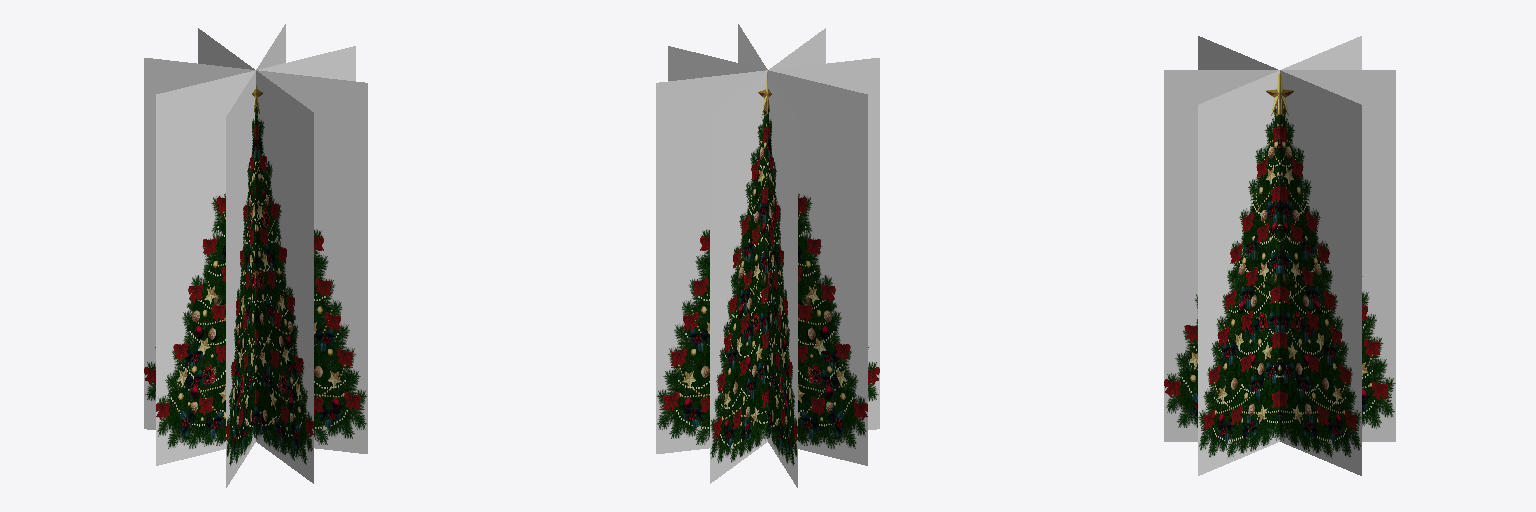
3 views of the same model, side by side, from view 1: azimuth 30°, elevation 25°; view 2: azimuth 150°, elevation 25°; view 3: azimuth 270°, elevation 25° (orthographic).
Parts seen in each view (by area): view 1: Plane001, Plane002, Plane004, Plane003; view 2: Plane001, Plane003, Plane004, Plane002; view 3: Plane002, Plane003, Plane004.
Part boxes in pixels (x1,y1,x2,y2): Plane001: (156,46,355,465); Plane002: (144,58,367,453); Plane004: (198,28,313,483); Plane003: (226,24,285,487); Plane001: (668,46,867,465); Plane003: (656,58,879,453); Plane004: (710,28,825,483); Plane002: (738,24,797,487); Plane002: (1198,36,1361,475); Plane003: (1198,36,1361,475); Plane004: (1164,70,1395,441).
Size of the model in its own units: 15.35 by 27.14 by 15.35.
Materials: 1 (1 with a texture image).